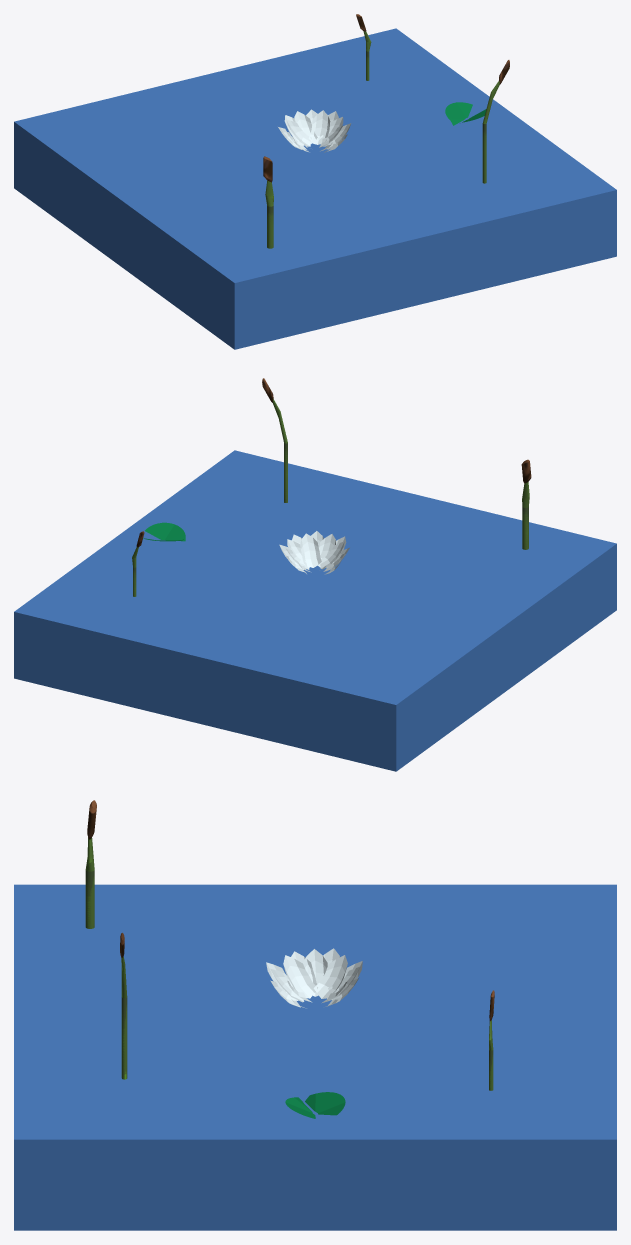
The model's file is fishPond.glb.
3 renders of one model, top to bottom at view 1: azimuth 30°, elevation 25°; view 2: azimuth 150°, elevation 25°; view 3: azimuth 270°, elevation 25°, orthographic. The views are drawn at different scales.
Visible parts, largest first — view 1: fishPond, lotus.001, stem, stem.002, lotusLeaf; view 2: fishPond, lotus.001, stem, lotusLeaf, stem.002; view 3: fishPond, lotus.001, lotusLeaf, stem, stem.002.
Part boxes in pixels (x1,y1,x2,y2): fishPond: (14,28,616,349); lotus.001: (278,109,351,152); stem: (263,156,273,248); stem.002: (482,60,509,183); lotusLeaf: (445,102,486,125); fishPond: (14,450,616,771); lotus.001: (279,531,349,574); stem: (521,459,531,549); lotusLeaf: (143,522,185,541); stem.002: (262,378,287,502); fishPond: (14,884,616,1230); lotus.001: (266,948,362,1008); lotusLeaf: (285,1092,345,1118); stem: (85,800,96,928); stem.002: (120,932,127,1079).
Bounding box in the file's own units: 3 × 1.38 × 3.
4 materials, 1 textured.
